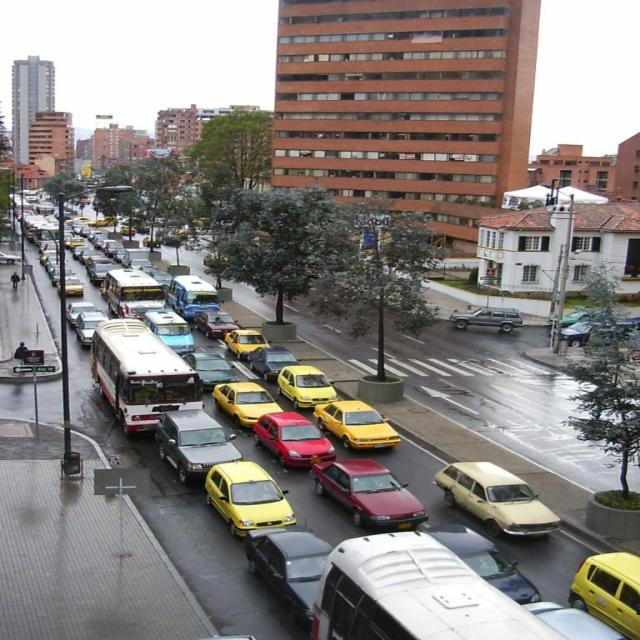car: (432, 461, 570, 538), (306, 455, 426, 532), (149, 407, 256, 479), (203, 462, 300, 535), (302, 397, 403, 450), (249, 408, 329, 466), (206, 378, 279, 420), (273, 362, 332, 407), (184, 307, 234, 340), (222, 328, 271, 359), (82, 312, 119, 352)
